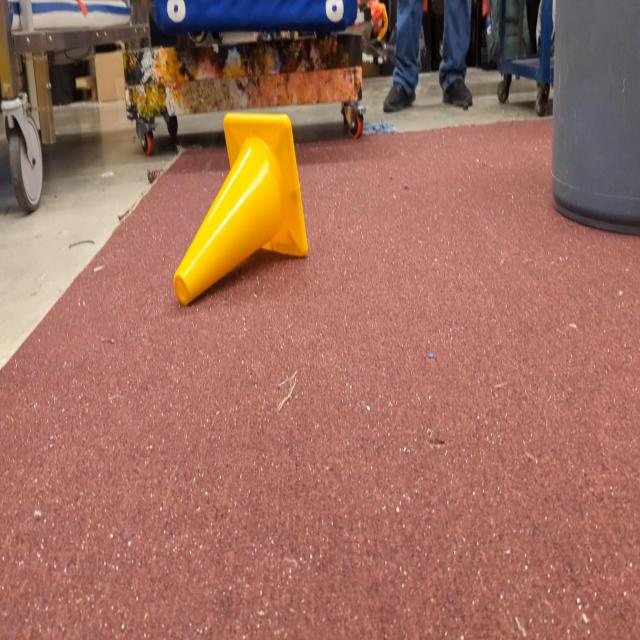frc_cone: (173, 110, 309, 305)
